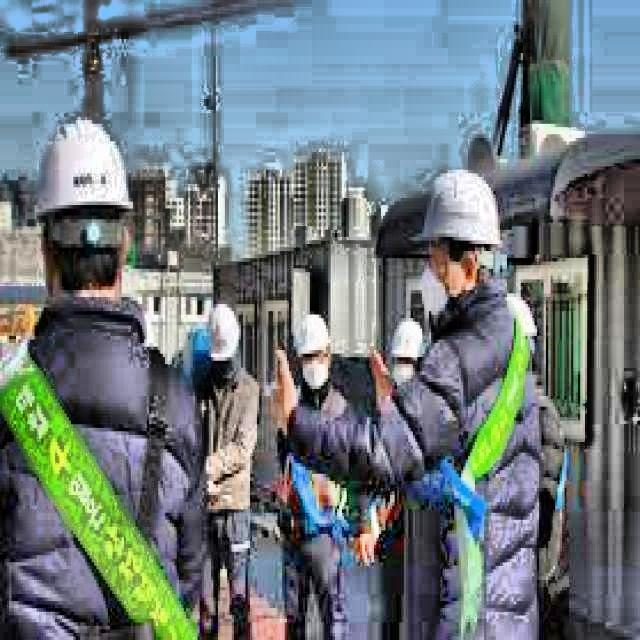bull_dozer/loader/grader: (2, 0, 303, 116)
person: (274, 171, 544, 640), (0, 118, 205, 640), (271, 312, 363, 640), (196, 304, 262, 640)
